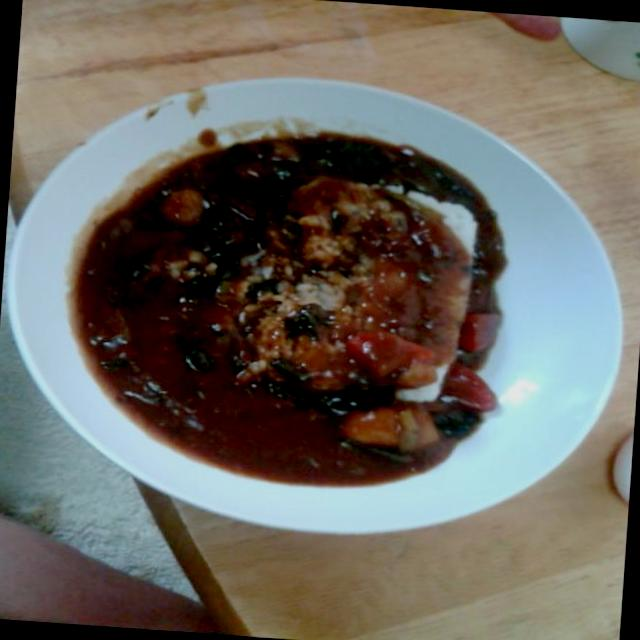Beef Curry: (44, 106, 504, 490)
